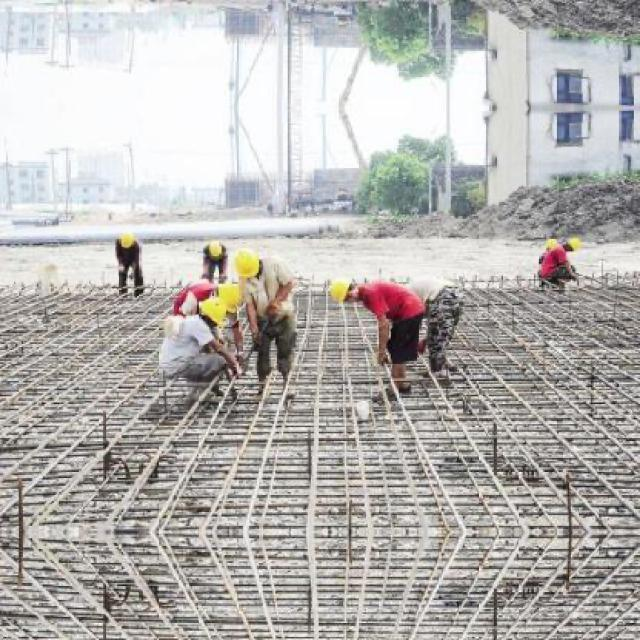con casco: (209, 295, 253, 332), (338, 267, 366, 314), (223, 276, 255, 308), (250, 234, 276, 273)
